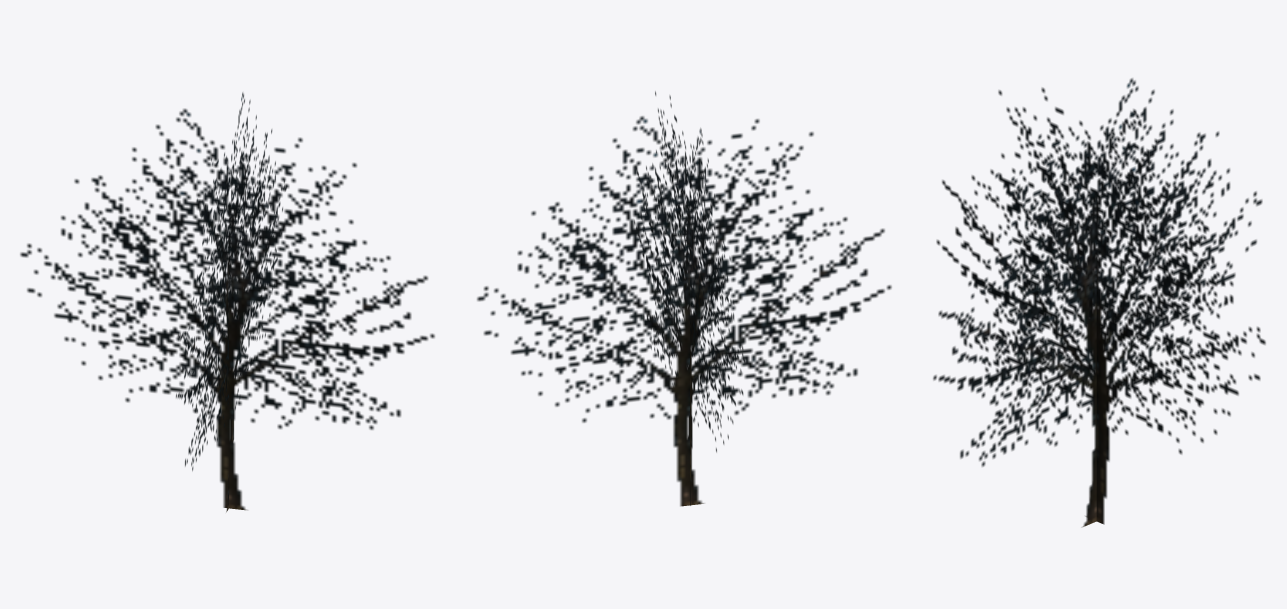
File: tree003.glb
3 renders of one model, left to right at view 1: azimuth 30°, elevation 25°; view 2: azimuth 150°, elevation 25°; view 3: azimuth 270°, elevation 25°, orthographic. The views are drawn at different scales.
Visible parts, largest first — view 1: tree003; view 2: tree003; view 3: tree003.
Boxes of the visible parts, x1,y1,x2,y2 form: tree003: (20, 92, 434, 512); tree003: (477, 91, 891, 506); tree003: (933, 78, 1265, 526).
Size of the model in its own units: 2.17 by 3.1 by 2.17.
Materials: 1 (1 with a texture image).
